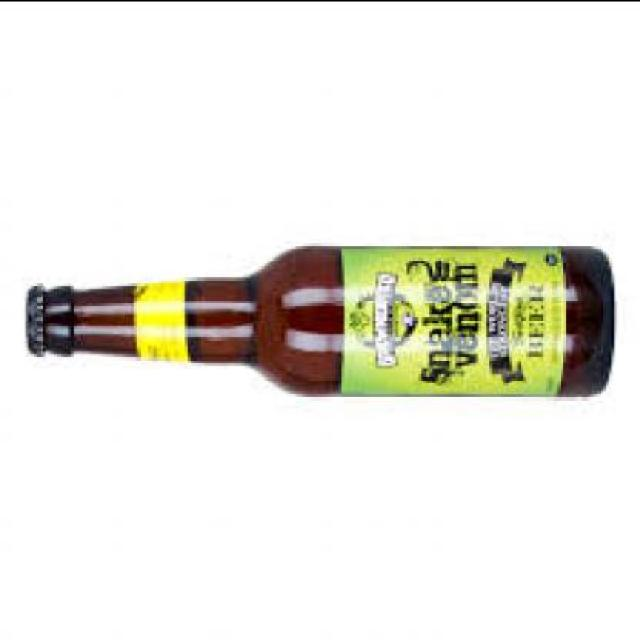GLASS: (36, 244, 615, 402)
METAL: (20, 290, 40, 361)
